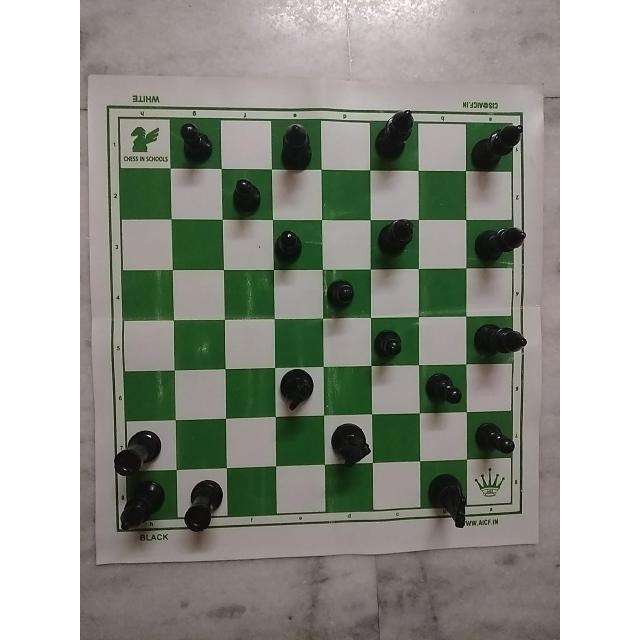black-bishop: (468, 112, 528, 176), (371, 103, 418, 172), (117, 477, 169, 533), (472, 322, 535, 366), (473, 220, 531, 266), (274, 120, 318, 176), (377, 213, 417, 264)
black-knight: (427, 468, 481, 533), (273, 365, 317, 411), (331, 424, 374, 471)
black-pawn: (417, 365, 469, 412), (174, 117, 224, 164), (221, 170, 268, 218), (475, 414, 527, 457), (371, 322, 413, 365), (276, 224, 317, 260), (332, 275, 364, 313)
black-rook: (180, 467, 228, 539), (108, 427, 164, 481)
